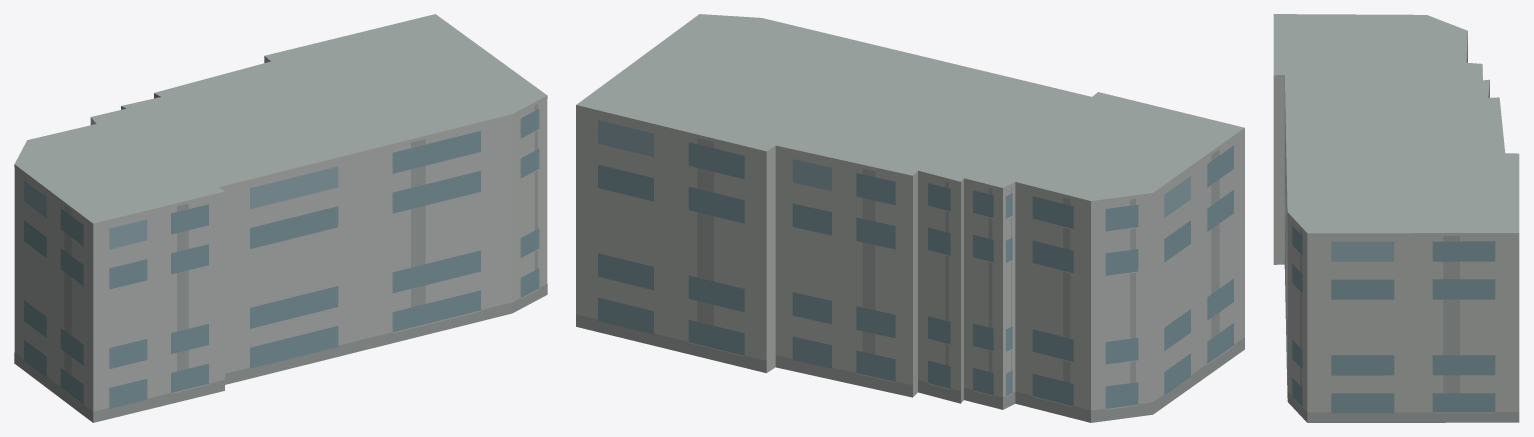
Rendered from residential-e0496cdb-1be5-4c53-bd4c-1a8f550d81b3.glb.
3 renders of one model, left to right at view 1: azimuth 30°, elevation 25°; view 2: azimuth 150°, elevation 25°; view 3: azimuth 270°, elevation 25°, orthographic. The views are drawn at different scales.
Parts seen in each view (by area): view 1: residential-e0496cdb-1be5-4c53-bd4c-1a8f550d81b3.tmp; view 2: residential-e0496cdb-1be5-4c53-bd4c-1a8f550d81b3.tmp; view 3: residential-e0496cdb-1be5-4c53-bd4c-1a8f550d81b3.tmp.
Boxes of the visible parts, x1,y1,x2,y2 form: residential-e0496cdb-1be5-4c53-bd4c-1a8f550d81b3.tmp: (14, 14, 547, 422); residential-e0496cdb-1be5-4c53-bd4c-1a8f550d81b3.tmp: (576, 14, 1244, 422); residential-e0496cdb-1be5-4c53-bd4c-1a8f550d81b3.tmp: (1273, 14, 1519, 422).
Size of the model in its own units: 37.82 by 15.25 by 17.95.
